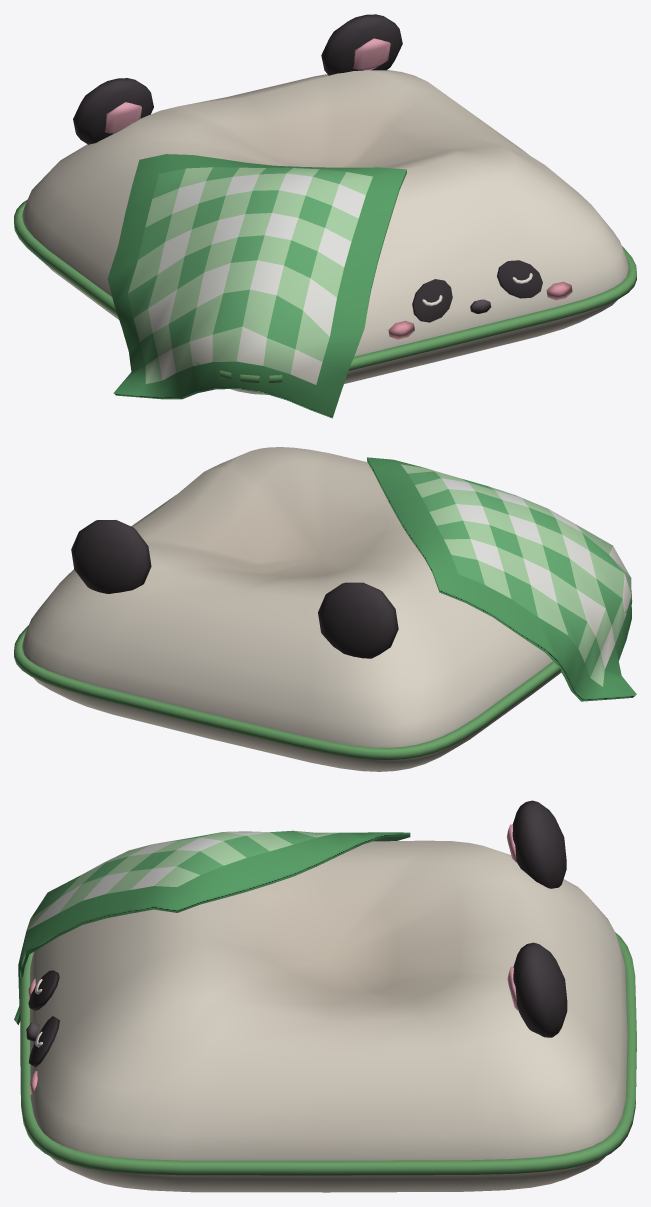
The model's file is furn-napPillow.glb.
The picture shows the model from 3 angles, top to bottom: view 1: azimuth 30°, elevation 25°; view 2: azimuth 150°, elevation 25°; view 3: azimuth 270°, elevation 25°; orthographic projection. The views are drawn at different scales.
Visible parts, largest first — view 1: cloth; view 2: cloth; view 3: cloth.
Part boxes in pixels (x1,y1,x2,y2): cloth: (14,14,636,418); cloth: (14,447,636,771); cloth: (14,800,636,1192).
Bounding box in the file's own units: 1.06 × 0.3825 × 0.9776.
